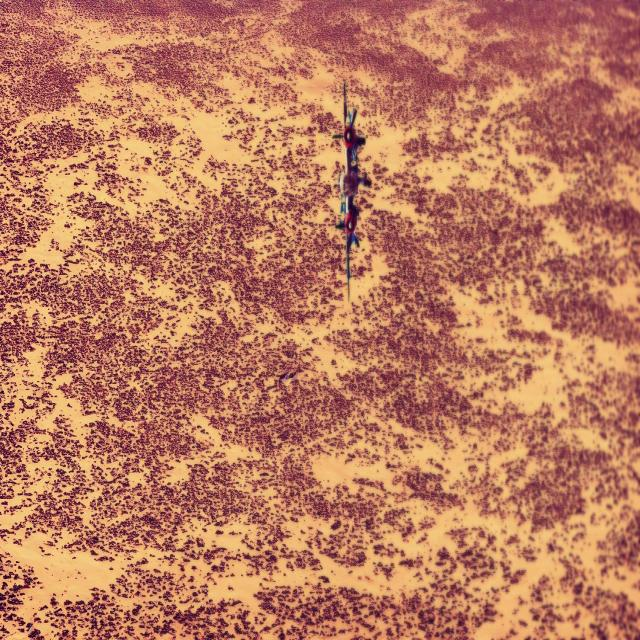airplane: (336, 80, 367, 302)
